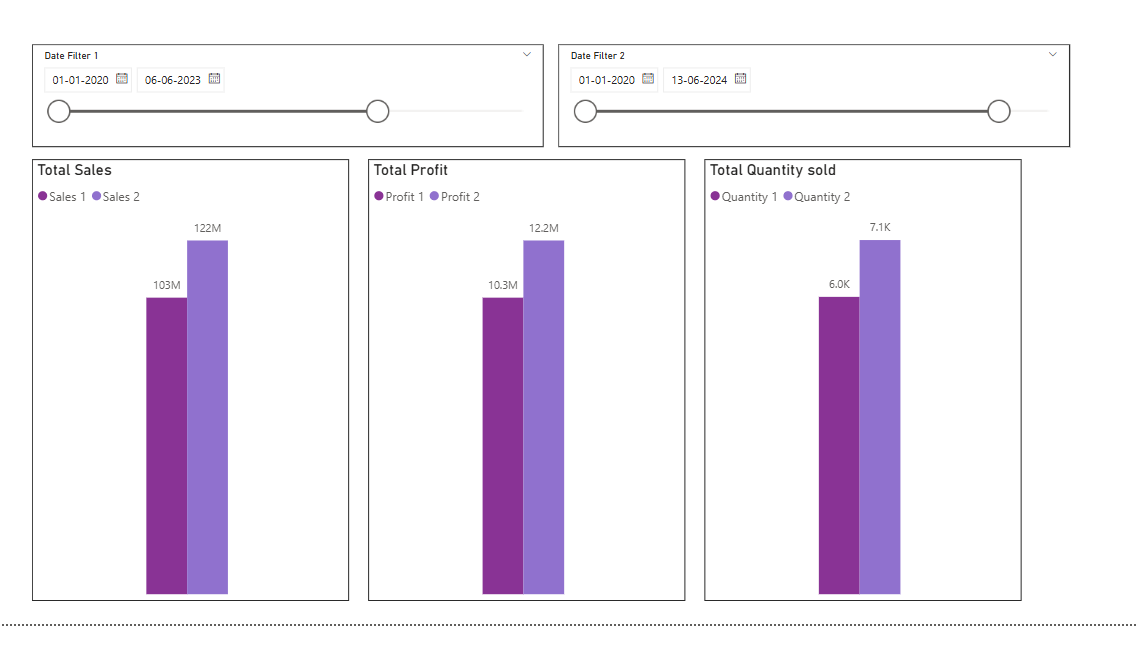

Layout of this report page (visuals, bound fields, positions):
{"tool":"powerbi","page":{"name":"Comparison Sales/Profit/Quantity","canvas":[1280,720],"ordinal":2},"visuals":[{"type":"slicer","fields":{"Values":["Date Table1.Date"]},"box":[44.2,84.1,561.6,112.6],"z":0},{"type":"slicer","fields":{"Values":["Date Table2.Date"]},"box":[621.6,83.7,561.2,112.5],"z":1000},{"type":"clusteredColumnChart","title":"Total Sales","fields":{"Y":["Sum(Fact Table.Net Sales  )","Date Table1.Sum of Net Sales"]},"box":[44.2,209.5,347.8,484.6],"z":2000},{"type":"clusteredColumnChart","title":"Total Profit","fields":{"Y":["Sum(Fact Table.Profit)","Measure Table.Total Profit"]},"box":[413.4,209.5,347.8,484.6],"z":3000},{"type":"clusteredColumnChart","title":"Total Quantity sold","fields":{"Y":["Sum(Fact Table.Units Sold)","Measure Table.Quantity Sold"]},"box":[782.5,209.5,347.8,484.6],"z":4000}]}

Visuals, with their boxes in screenshot pixels (x1, y1, x2, y2):
slicer - Date Table1.Date: <box>31,44,541,146</box>
slicer - Date Table2.Date: <box>555,43,1064,145</box>
"Total Sales" clusteredColumnChart: <box>31,158,347,597</box>
"Total Profit" clusteredColumnChart: <box>366,158,682,597</box>
"Total Quantity sold" clusteredColumnChart: <box>701,158,1017,597</box>
